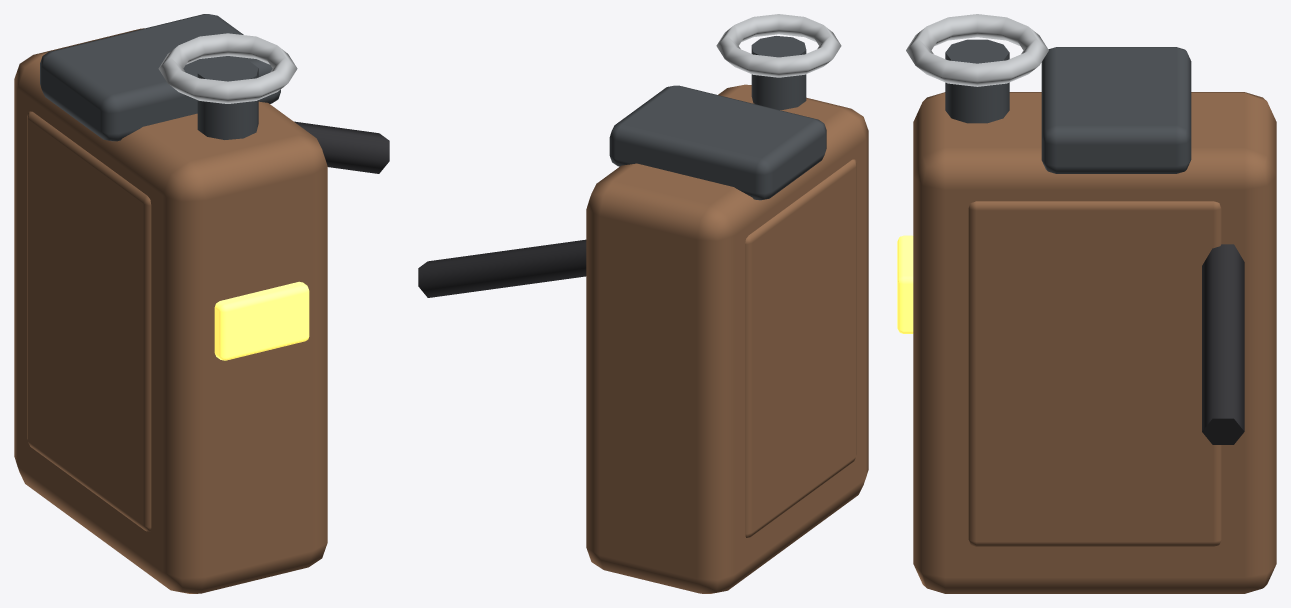
The model's file is fps-survival-forest-outpost-fuel-can-99fa33e8__32673.glb.
The picture shows the model from 3 angles, left to right: view 1: azimuth 30°, elevation 25°; view 2: azimuth 150°, elevation 25°; view 3: azimuth 270°, elevation 25°; orthographic projection. The views are drawn at different scales.
Visible parts, largest first — view 1: fuel-can; view 2: fuel-can; view 3: fuel-can.
Part boxes in pixels (left/top/right/bottom): fuel-can: left=14, top=14, right=389, bottom=593; fuel-can: left=418, top=14, right=868, bottom=593; fuel-can: left=897, top=14, right=1276, bottom=593.
Bounding box in the file's own units: 0.4069 × 0.544 × 0.355.
